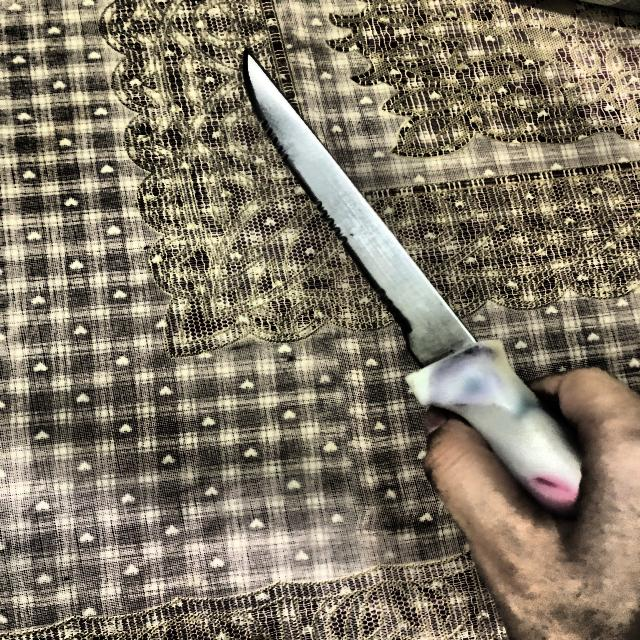knife: (245, 51, 584, 518)
